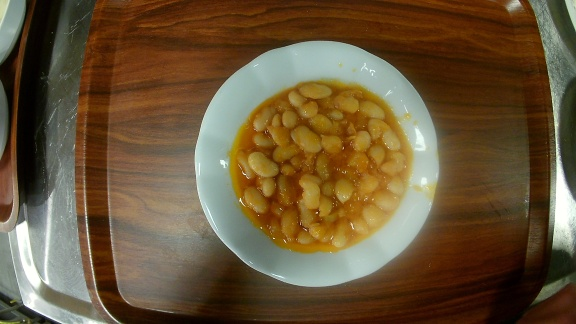kurufasulye: (193, 39, 440, 289)
